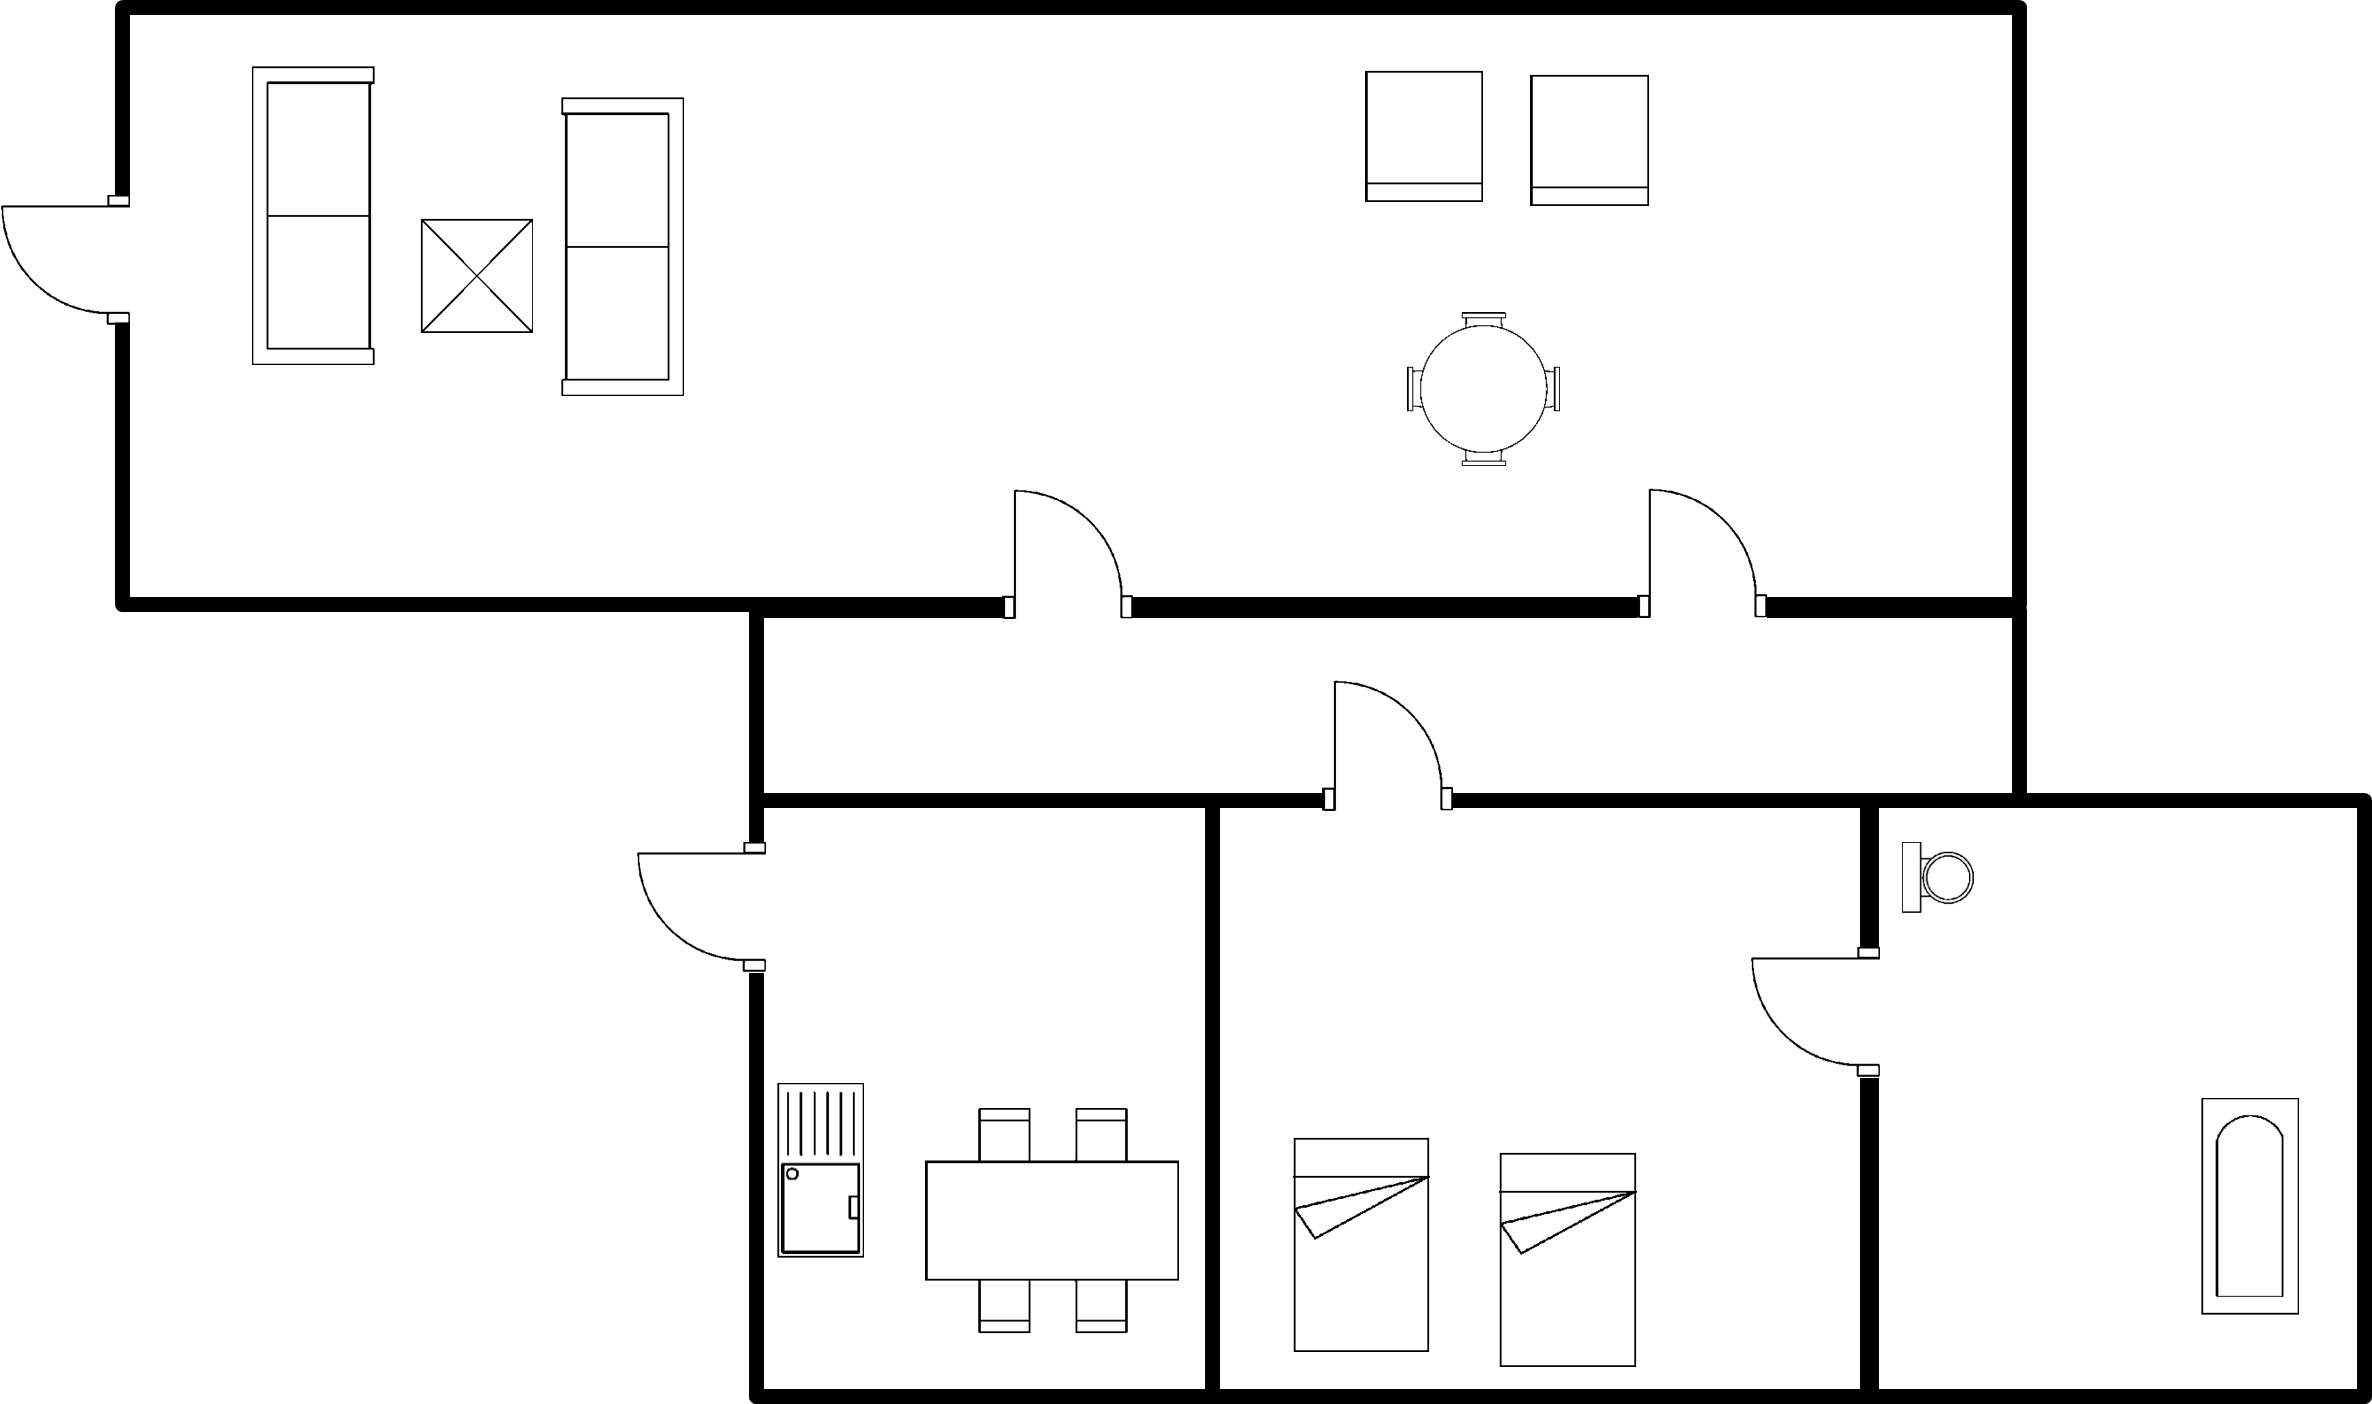bed: (1488, 1137, 1657, 1376), (1278, 1125, 1446, 1364)
coffee_table: (412, 205, 539, 346)
dining_table: (913, 1096, 1188, 1347)
large_sink: (1890, 830, 1985, 925)
large_sofa: (235, 49, 385, 378), (546, 85, 696, 405)
round_table: (1388, 295, 1574, 483)
sink: (769, 1071, 878, 1269)
small_sofa: (1515, 64, 1664, 220), (1352, 54, 1495, 217)
tub: (2186, 1083, 2308, 1327)
